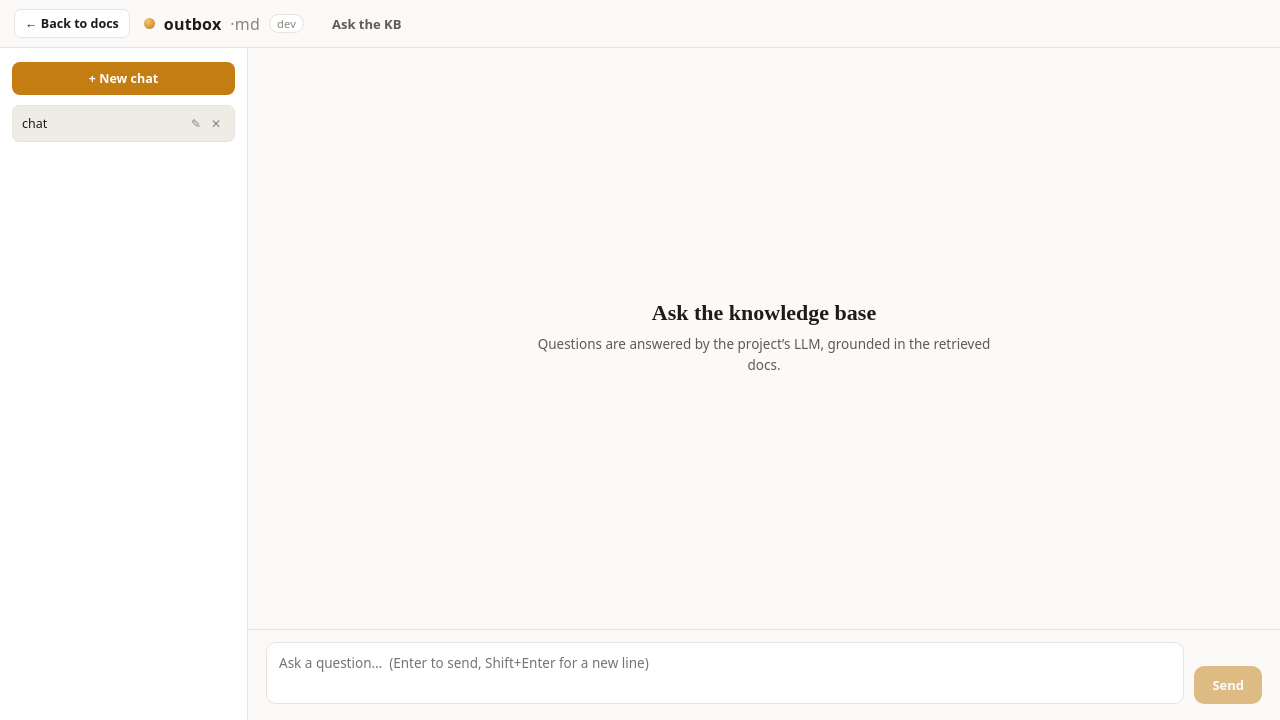
AskPage › sends a question and renders the answer with its sources
Expected: the text "chat" is shown, [22,115,47,132]
Type "what is A?" into the text box labelled "Ask a question".
click(725, 673); type("what is A?")  # box [266,642,1184,704]
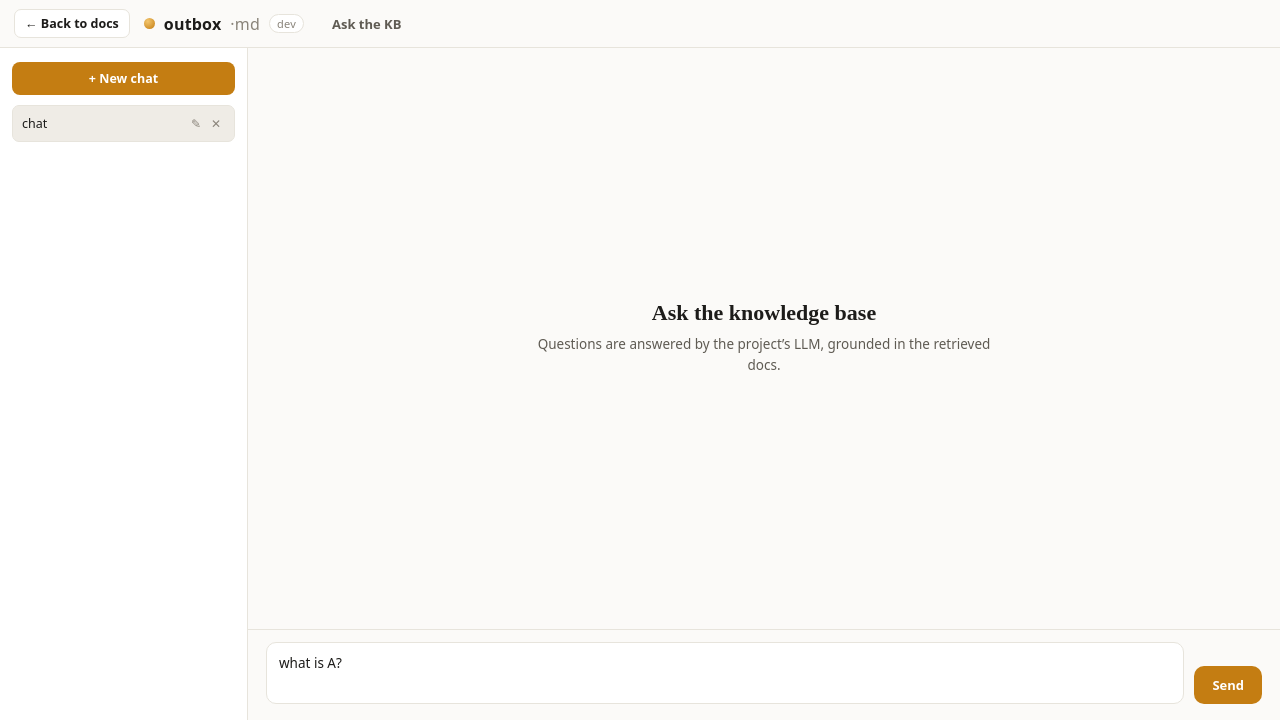
Click the button "Send".
click(1228, 685)  # box [1194,666,1262,704]
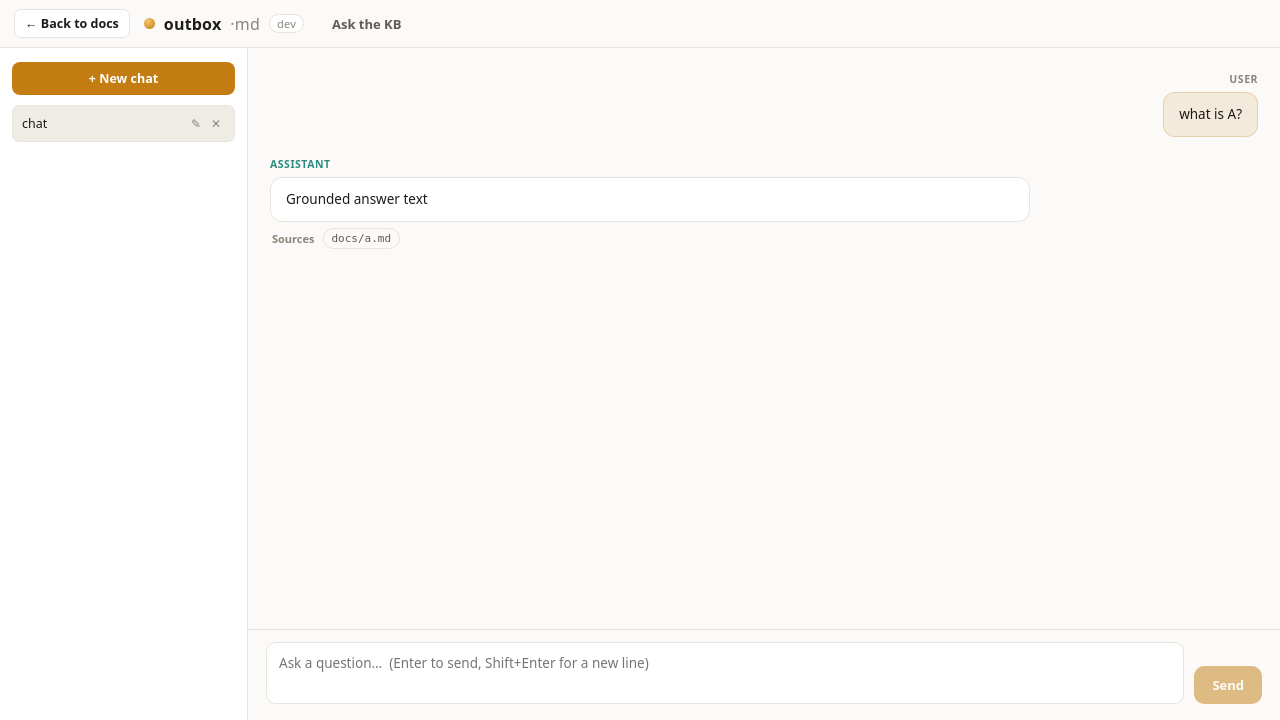
Now the text "Grounded answer text" is shown, box [286,190,428,208]
Now the button "docs/a.md" is shown, box [322,228,400,249]
